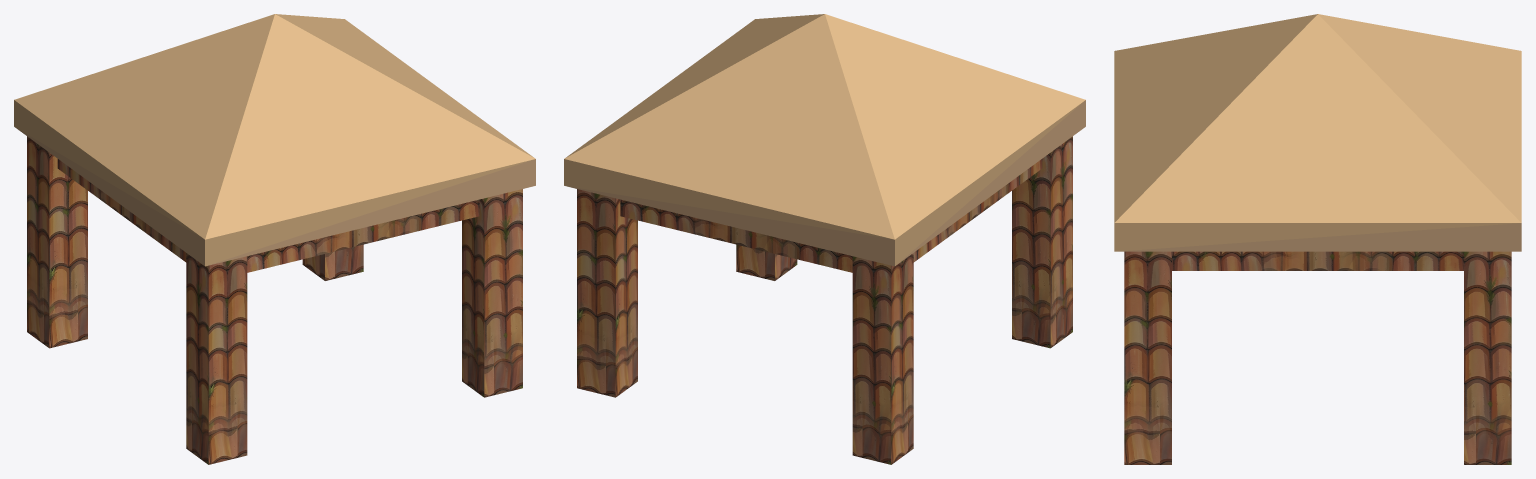
File: tent.gltf
The picture shows the model from 3 angles, left to right: view 1: azimuth 30°, elevation 25°; view 2: azimuth 150°, elevation 25°; view 3: azimuth 270°, elevation 25°; orthographic projection. The views are drawn at different scales.
Parts seen in each view (by area): view 1: tent; view 2: tent; view 3: tent.
Part boxes in pixels (box(x1,y1,x2,y2)): tent: box(14, 14, 535, 464); tent: box(564, 14, 1085, 464); tent: box(1114, 14, 1521, 464).
Bounding box in the file's own units: 0.516 × 0.516 × 0.516.
Materials: 4 (1 with a texture image).
